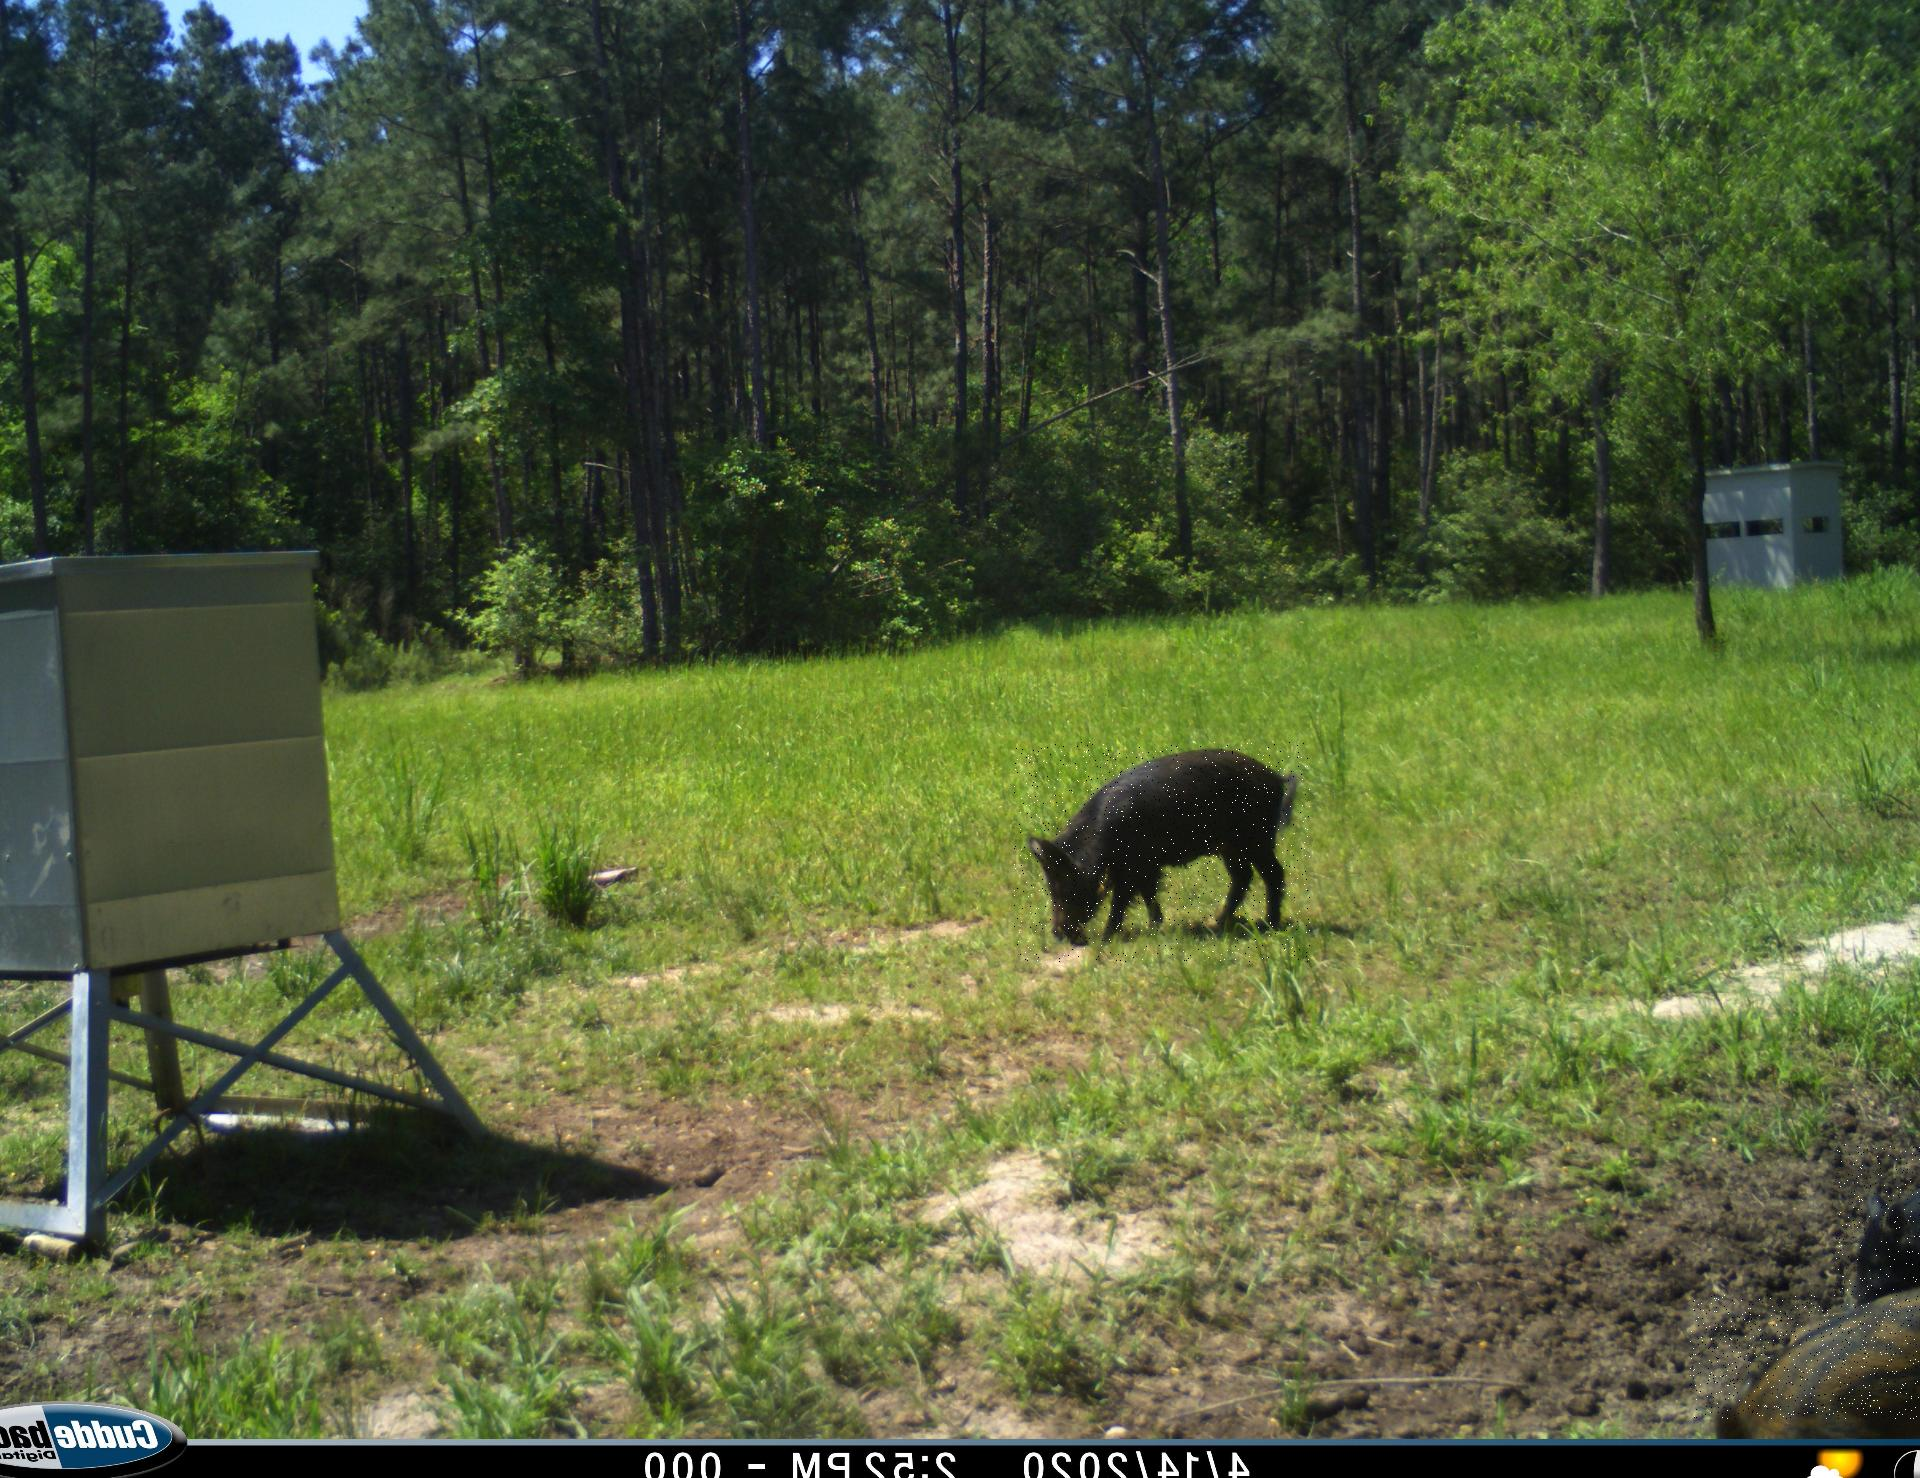Hog: (1014, 742, 1310, 961), (1690, 1295, 1920, 1419), (1835, 1144, 1920, 1303)
